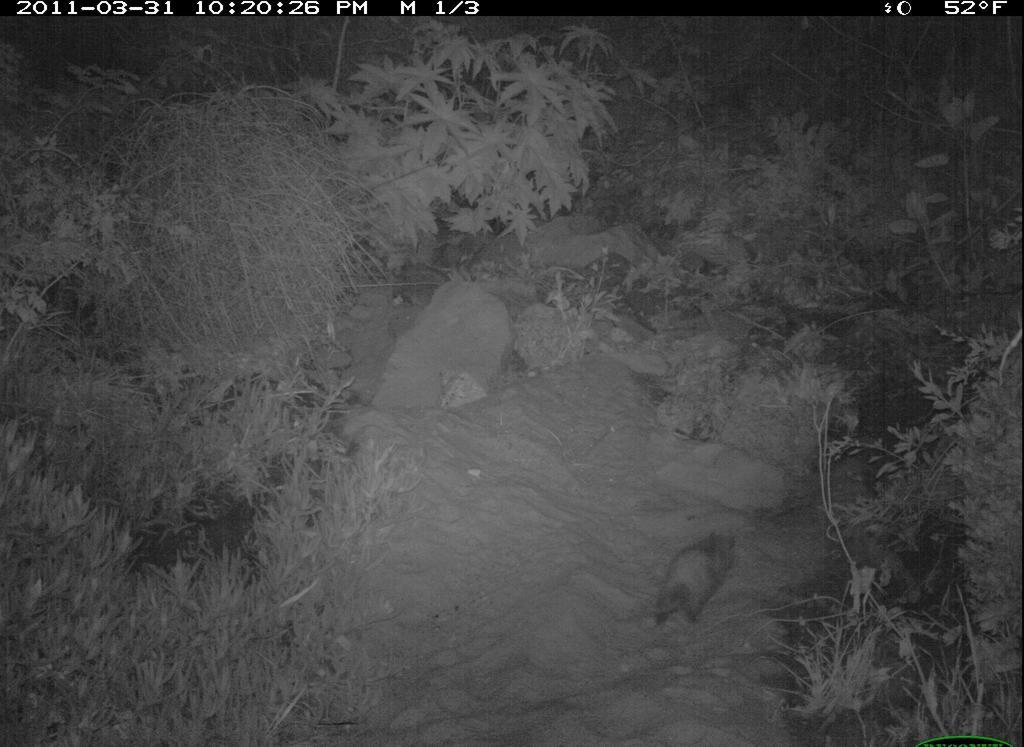opossum: (639, 513, 748, 637)
